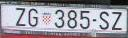-: (92, 18, 98, 22)
3: (54, 9, 64, 28)
5: (80, 11, 90, 29)
8: (67, 10, 78, 29)
G: (28, 9, 39, 27)
S: (99, 11, 111, 29)
Z: (15, 8, 26, 27), (112, 11, 123, 30)
